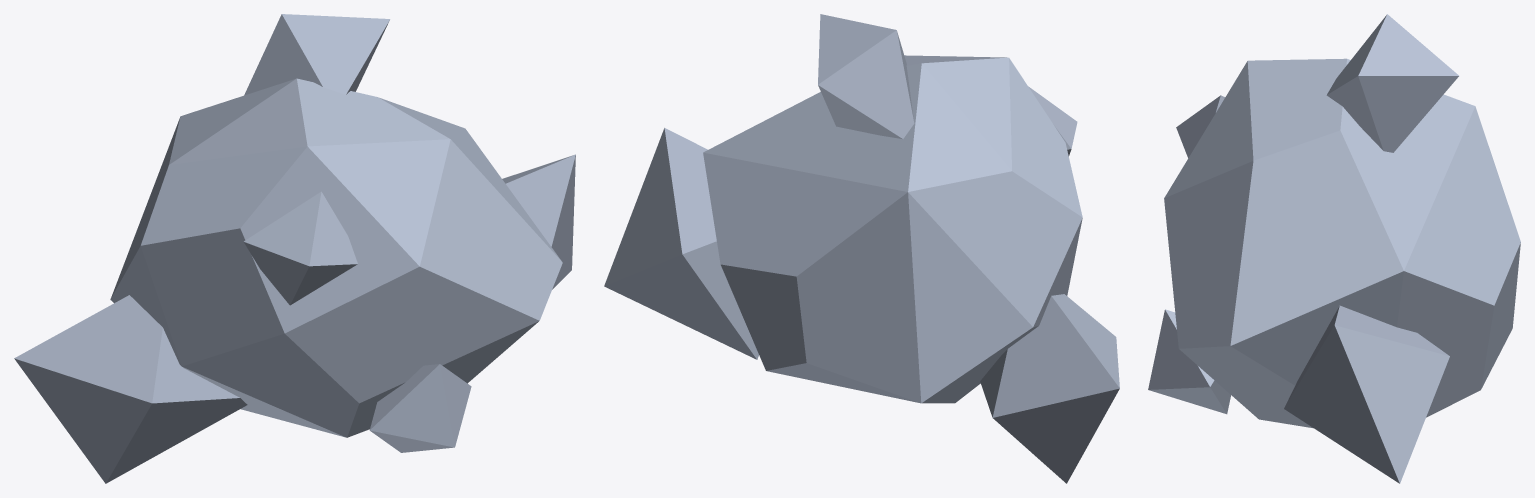
File: Ore_Core.fbx
The picture shows the model from 3 angles, left to right: view 1: azimuth 30°, elevation 25°; view 2: azimuth 150°, elevation 25°; view 3: azimuth 270°, elevation 25°; orthographic projection. The views are drawn at different scales.
Visible parts, largest first — view 1: Ore; view 2: Ore; view 3: Ore.
Part boxes in pixels (<box>): Ore: <box>14,14,575,483</box>; Ore: <box>604,14,1119,483</box>; Ore: <box>1148,14,1520,483</box>.
Bounding box in the file's own units: 192 × 143 × 115.
